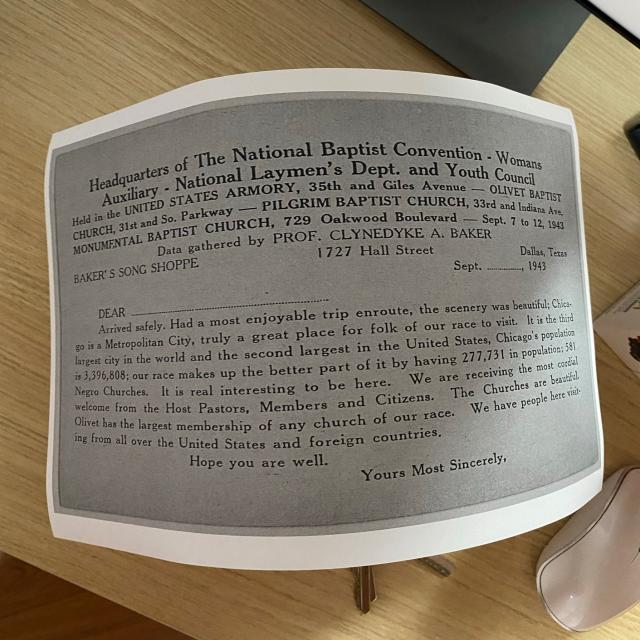document: (45, 69, 603, 570)
